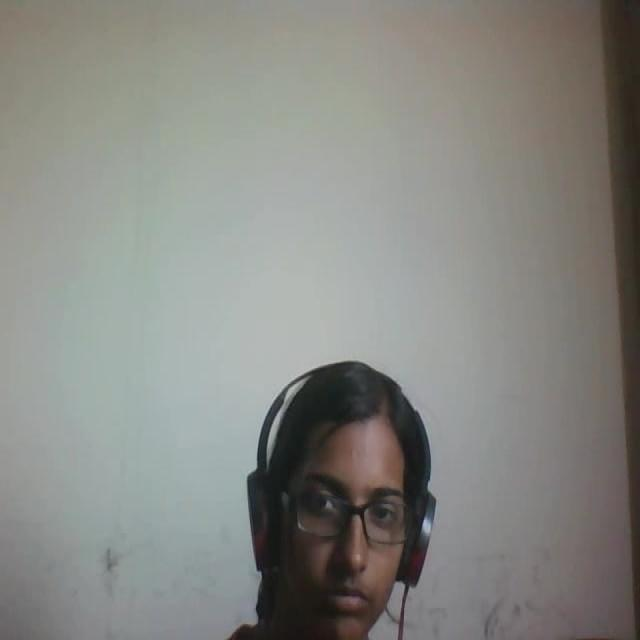Engaged: (214, 324, 462, 640)
